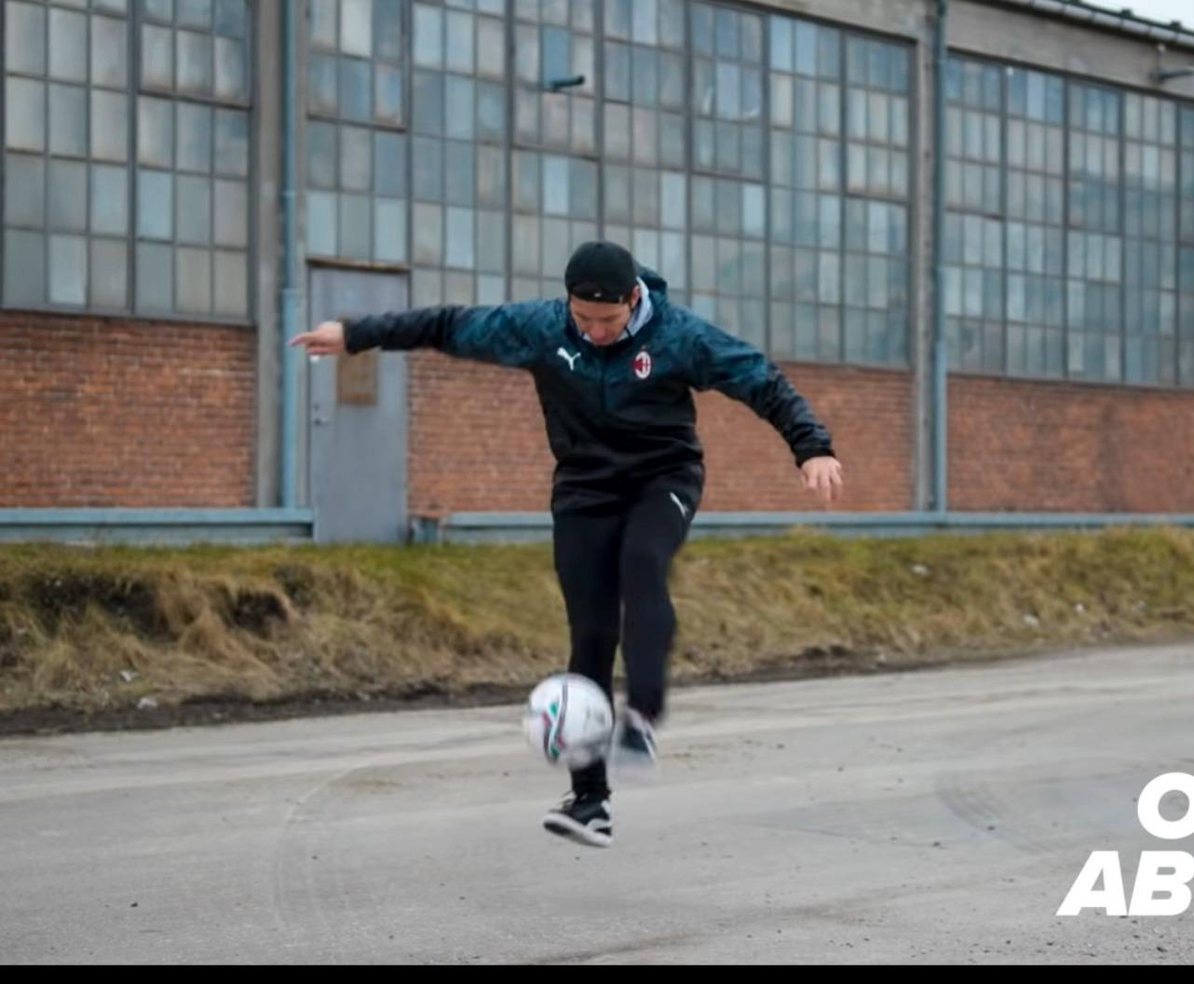ball: (528, 673, 612, 765)
foot: (542, 794, 613, 850), (614, 704, 658, 770)
person: (297, 244, 846, 851)
